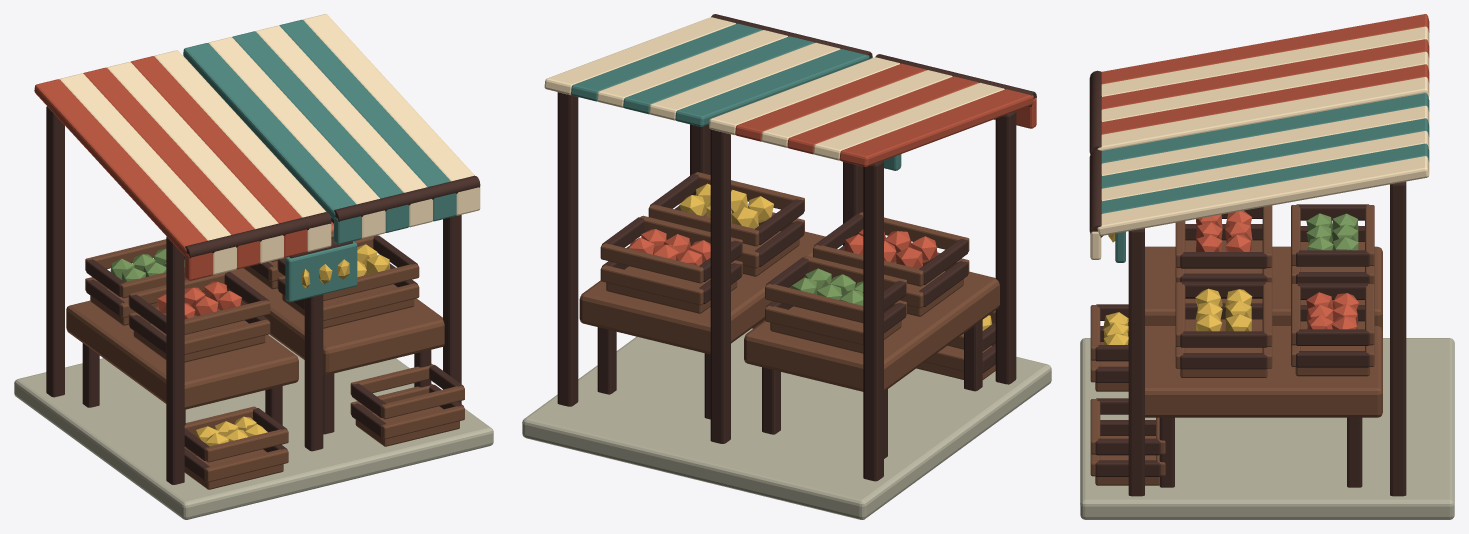
The model's file is market.glb.
3 views of the same model, side by side, from view 1: azimuth 30°, elevation 25°; view 2: azimuth 150°, elevation 25°; view 3: azimuth 270°, elevation 25° (orthographic). The views are drawn at different scales.
Parts seen in each view (by area): view 1: market · wood_light, market · plaster_light, market · wood, market · stone_light, market · copper, market · tile, market · fruit_gold, market · fruit_red, market · leaf_light; view 2: market · stone_light, market · wood, market · wood_light, market · plaster_light, market · tile, market · copper, market · fruit_red, market · fruit_gold, market · leaf_light; view 3: market · stone_light, market · wood, market · plaster_light, market · wood_light, market · copper, market · tile, market · fruit_red, market · fruit_gold, market · leaf_light.
Boxes of the visible parts, <box> form: market · wood_light: <box>66,231,464,489</box>; market · plaster_light: <box>59,14,480,274</box>; market · wood: <box>46,73,480,484</box>; market · stone_light: <box>14,334,493,519</box>; market · copper: <box>183,19,456,302</box>; market · tile: <box>34,56,307,280</box>; market · fruit_gold: <box>195,244,390,446</box>; market · fruit_red: <box>157,222,333,319</box>; market · leaf_light: <box>110,248,184,282</box>; market · stone_light: <box>522,328,1051,519</box>; market · wood: <box>557,14,1036,481</box>; market · wood_light: <box>579,172,999,391</box>; market · plaster_light: <box>544,17,1004,160</box>; market · tile: <box>735,63,1036,166</box>; market · copper: <box>571,23,901,170</box>; market · fruit_red: <box>629,229,937,268</box>; market · fruit_gold: <box>679,183,992,330</box>; market · leaf_light: <box>791,268,863,305</box>; market · stone_light: <box>1080,338,1454,519</box>; market · wood: <box>1089,70,1406,496</box>; market · plaster_light: <box>1090,26,1429,259</box>; market · wood_light: <box>1090,205,1382,485</box>; market · copper: <box>1101,93,1429,262</box>; market · tile: <box>1101,14,1429,134</box>; market · fruit_red: <box>1195,210,1359,329</box>; market · fruit_gold: <box>1103,233,1252,344</box>; market · leaf_light: <box>1306,213,1358,250</box>.
Bounding box in the file's own units: 0.9 × 0.8816 × 0.86.
